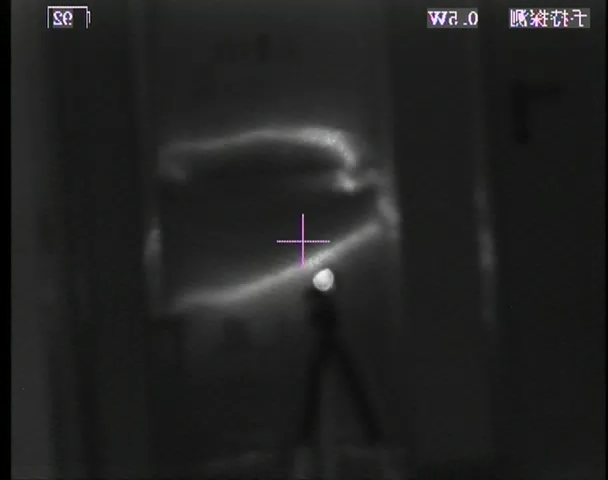my: (310, 267, 335, 292)
